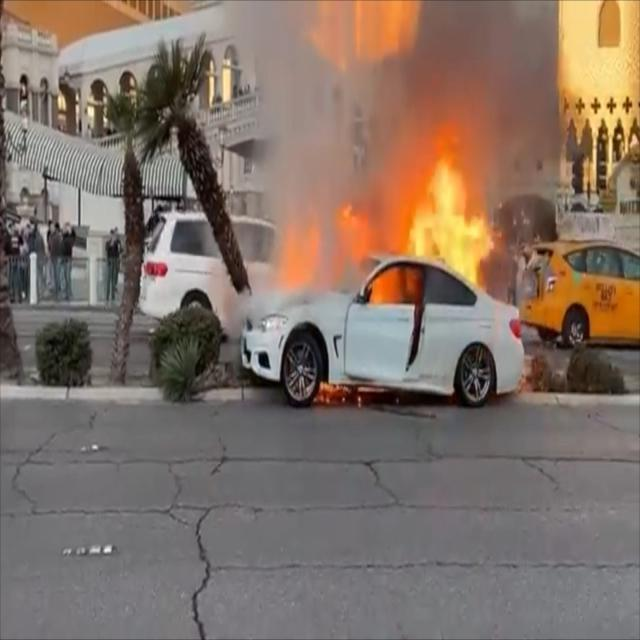fire: (326, 134, 501, 302)
